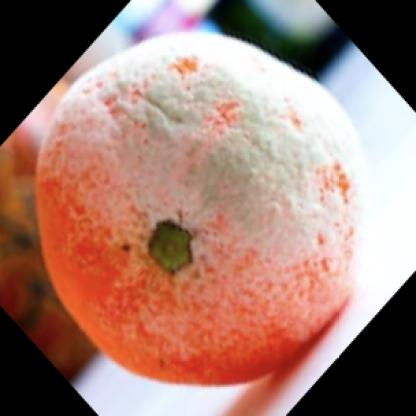rotten: (37, 32, 356, 390)
